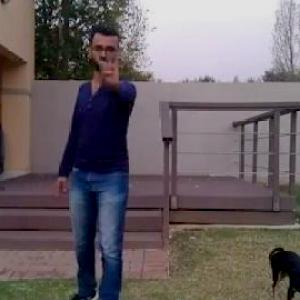takeoff-hand: (94, 42, 130, 84)
